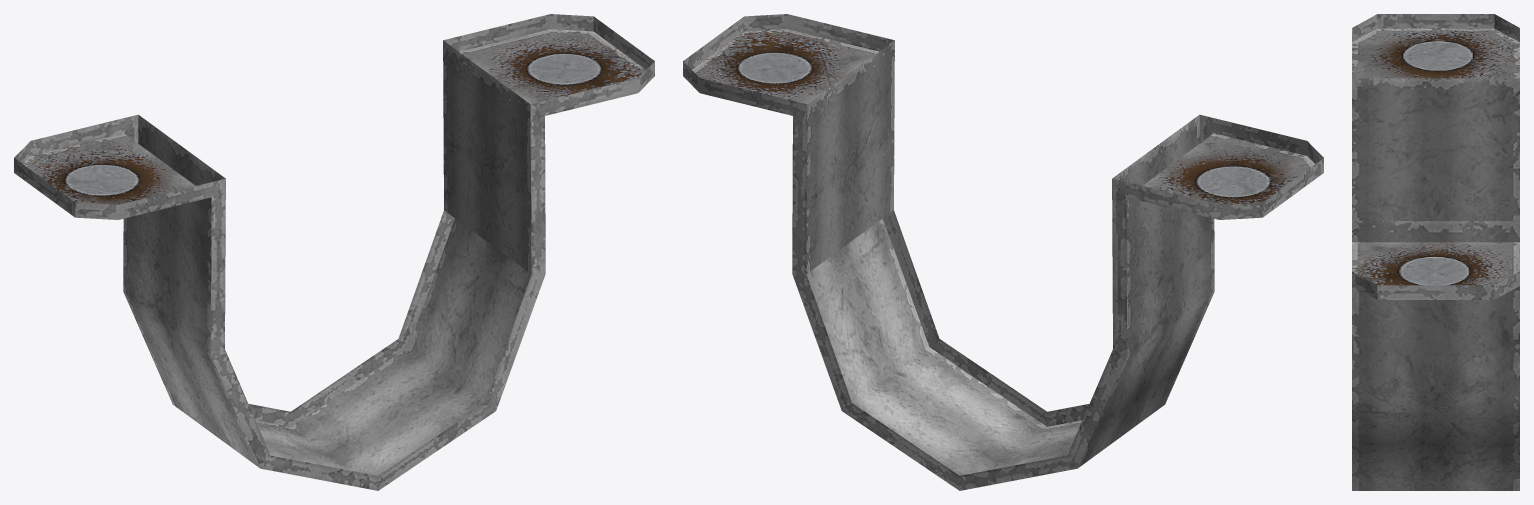
The model's file is CableClip.FBX.
3 renders of one model, left to right at view 1: azimuth 30°, elevation 25°; view 2: azimuth 150°, elevation 25°; view 3: azimuth 270°, elevation 25°, orthographic. The views are drawn at different scales.
Visible parts, largest first — view 1: CableClip; view 2: CableClip; view 3: CableClip.
Part boxes in pixels (box(x1,y1,x2,y2)): CableClip: box(14, 14, 654, 490); CableClip: box(683, 14, 1323, 490); CableClip: box(1352, 14, 1519, 490).
Bounding box in the file's own units: 174 × 100 × 45.46.
